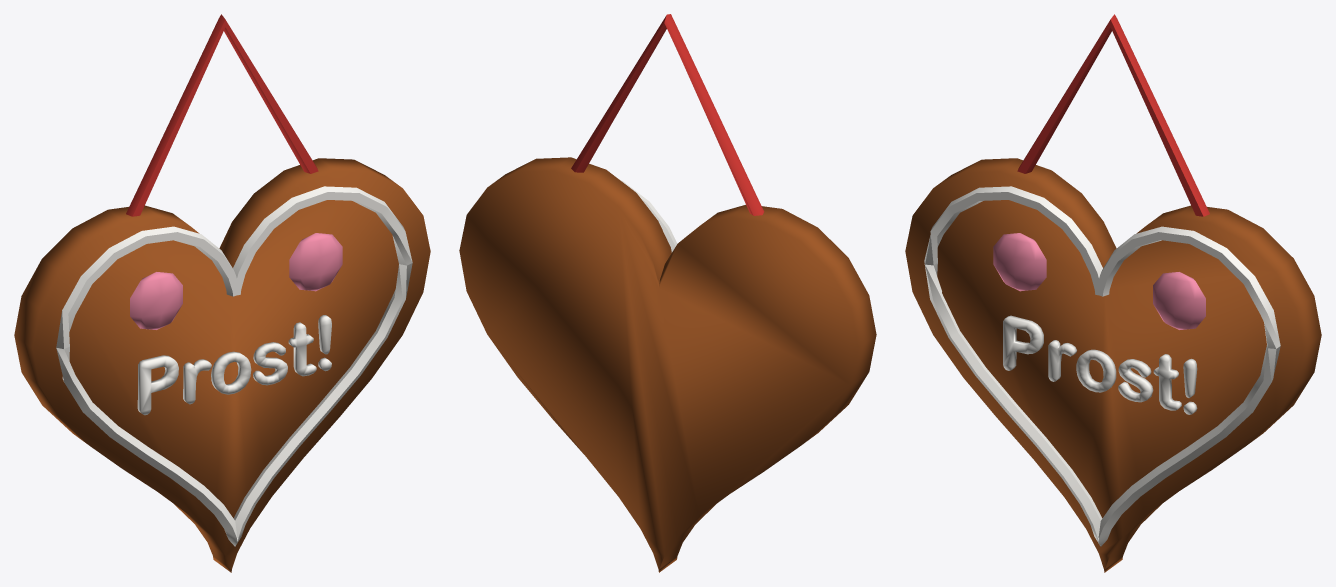
Rendered from coracao_lebkuchen.glb.
3 renders of one model, left to right at view 1: azimuth 30°, elevation 25°; view 2: azimuth 150°, elevation 25°; view 3: azimuth 330°, elevation 25°, orthographic.
Visible parts, largest first — view 1: Coracao_Lebkuchen; view 2: Coracao_Lebkuchen; view 3: Coracao_Lebkuchen.
Boxes of the visible parts, <box> form: Coracao_Lebkuchen: <box>14,14,430,572</box>; Coracao_Lebkuchen: <box>459,14,876,572</box>; Coracao_Lebkuchen: <box>905,14,1321,572</box>.
Bounding box in the file's own units: 0.4996 × 0.6612 × 0.0613.
